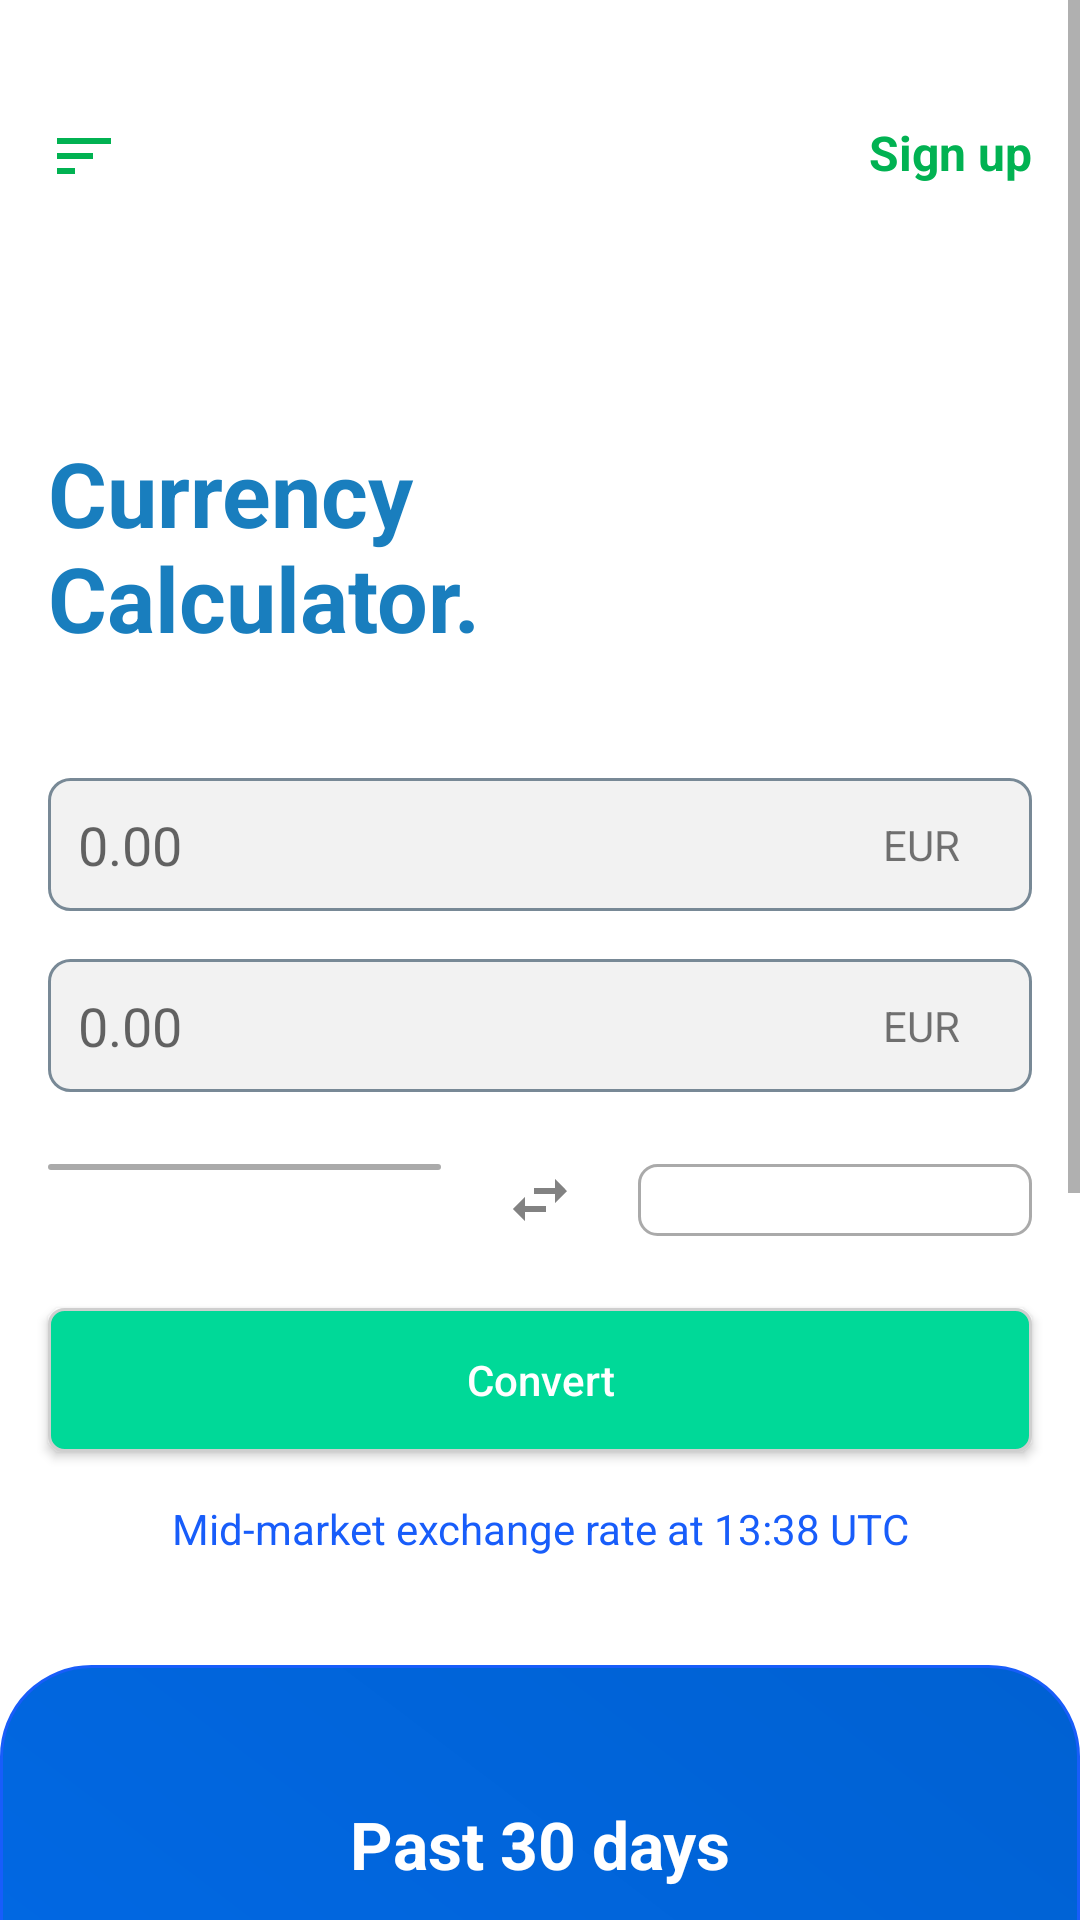

Icons on this 1080 × 1920 Android screen, each with the point to tap as point (x, y):
swap: point (540, 1200)
This is a sort by Icon: point (84, 156)
